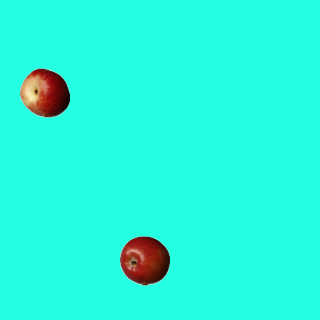Apple Braeburn: (119, 235, 169, 285)
Nectarine: (19, 67, 69, 117)
